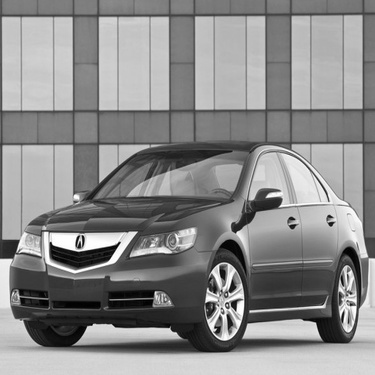car: (1, 136, 371, 351)
